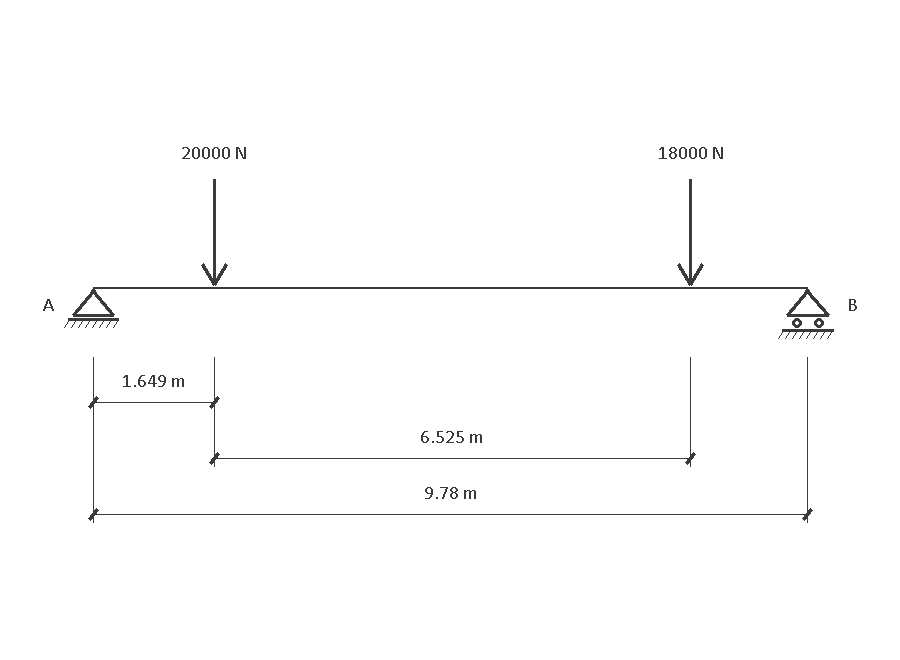pin_support: (64, 289, 119, 328)
point_load: (201, 179, 228, 286), (677, 179, 704, 286)
roller_support: (778, 289, 834, 339)
